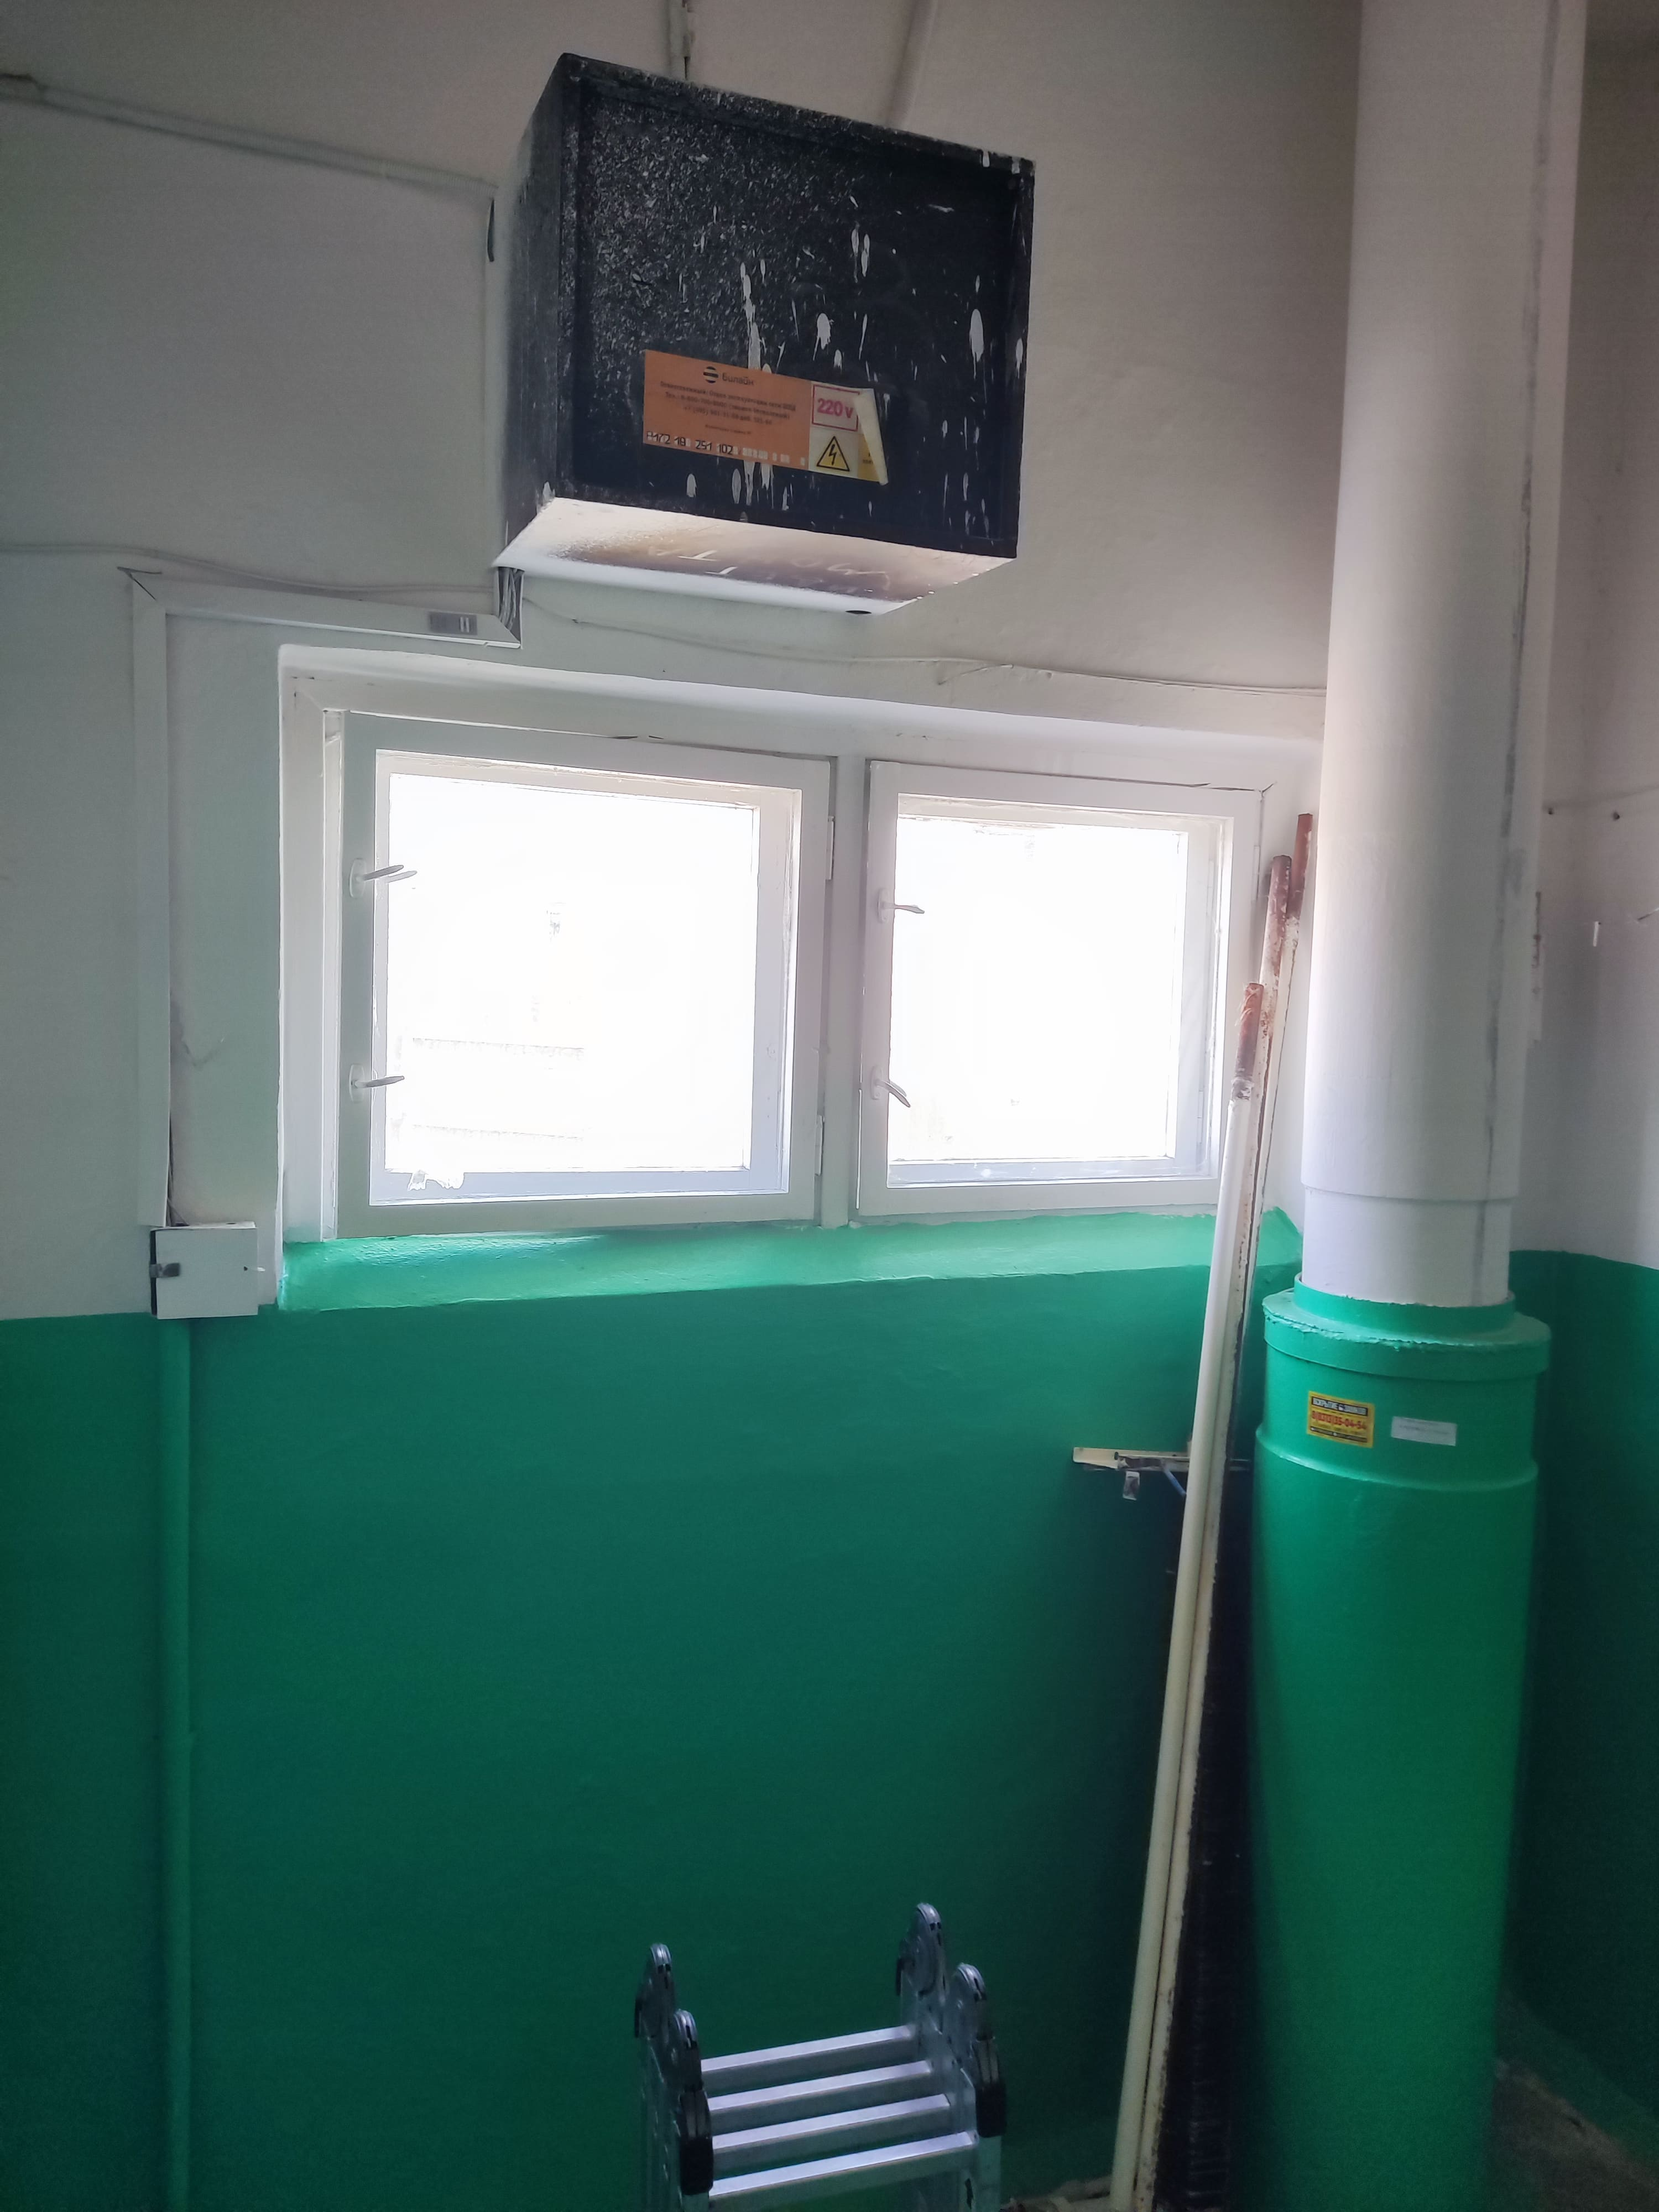shta-9m: (490, 47, 1040, 627)
